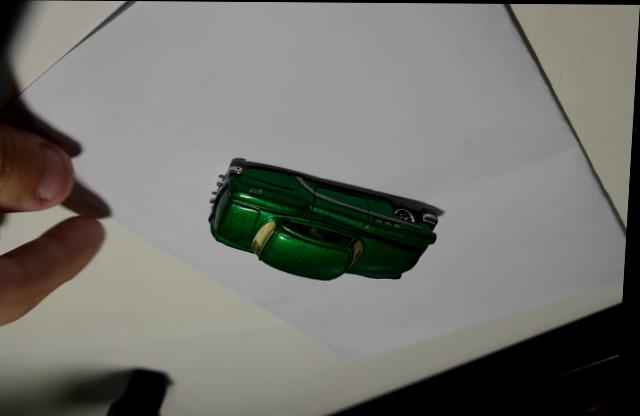06_MASERATI: (212, 156, 447, 279)
